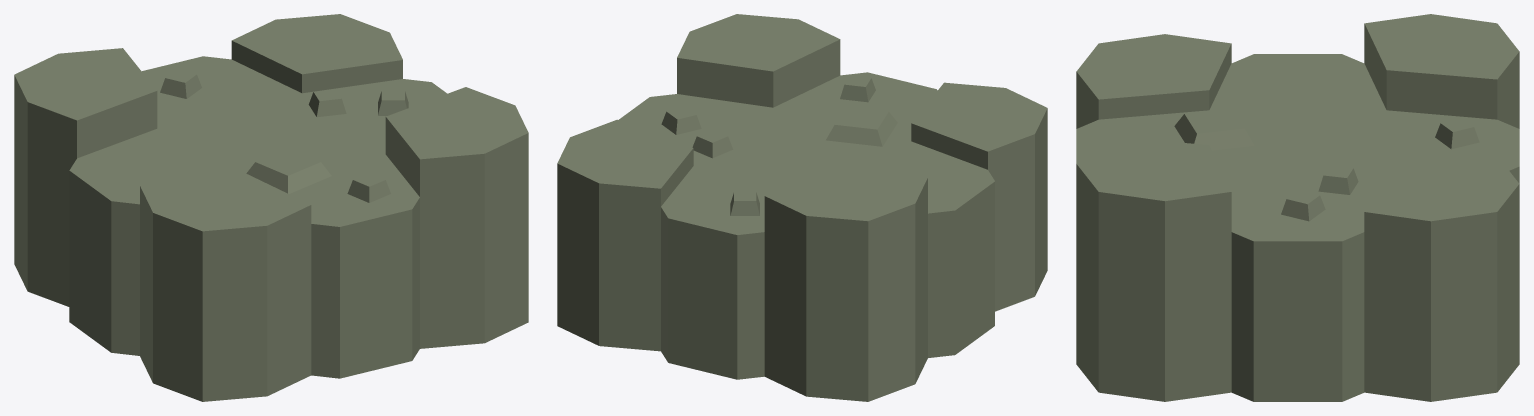
Rendered from kenney_mini-dungeon__rocks__meadow.fbx.
The picture shows the model from 3 angles, left to right: view 1: azimuth 30°, elevation 25°; view 2: azimuth 150°, elevation 25°; view 3: azimuth 270°, elevation 25°; orthographic projection. The views are drawn at different scales.
Parts seen in each view (by area): view 1: kenney_mini-dungeon__rocks__meadow_stone; view 2: kenney_mini-dungeon__rocks__meadow_stone; view 3: kenney_mini-dungeon__rocks__meadow_stone.
Boxes of the visible parts, bbox=[...] form: kenney_mini-dungeon__rocks__meadow_stone: bbox=[14, 14, 528, 401]; kenney_mini-dungeon__rocks__meadow_stone: bbox=[557, 14, 1047, 401]; kenney_mini-dungeon__rocks__meadow_stone: bbox=[1076, 14, 1519, 401].
Bounding box in the file's own units: 3.57 × 1.79 × 3.57.
1 material, 1 textured.
